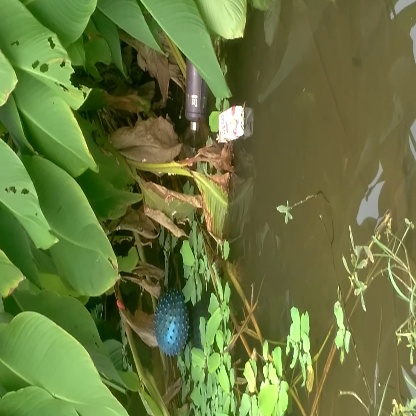ball: (151, 278, 197, 368)
milk-box: (214, 101, 260, 141)
